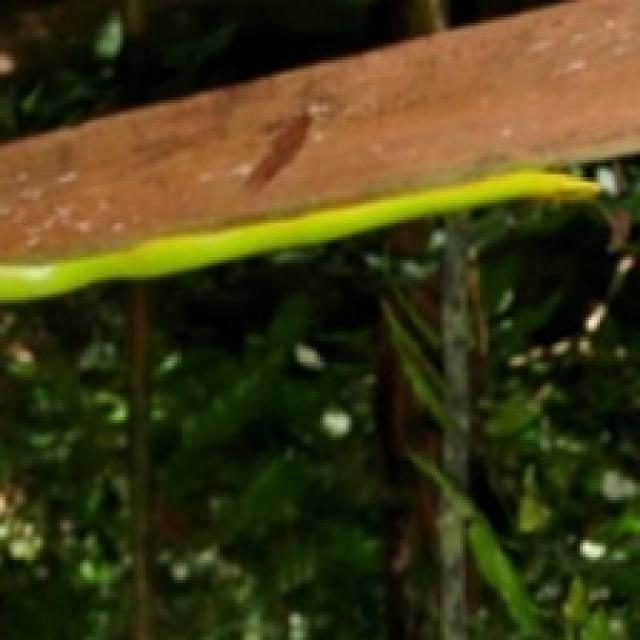red-tailed green ratsnake: (0, 170, 599, 301)
